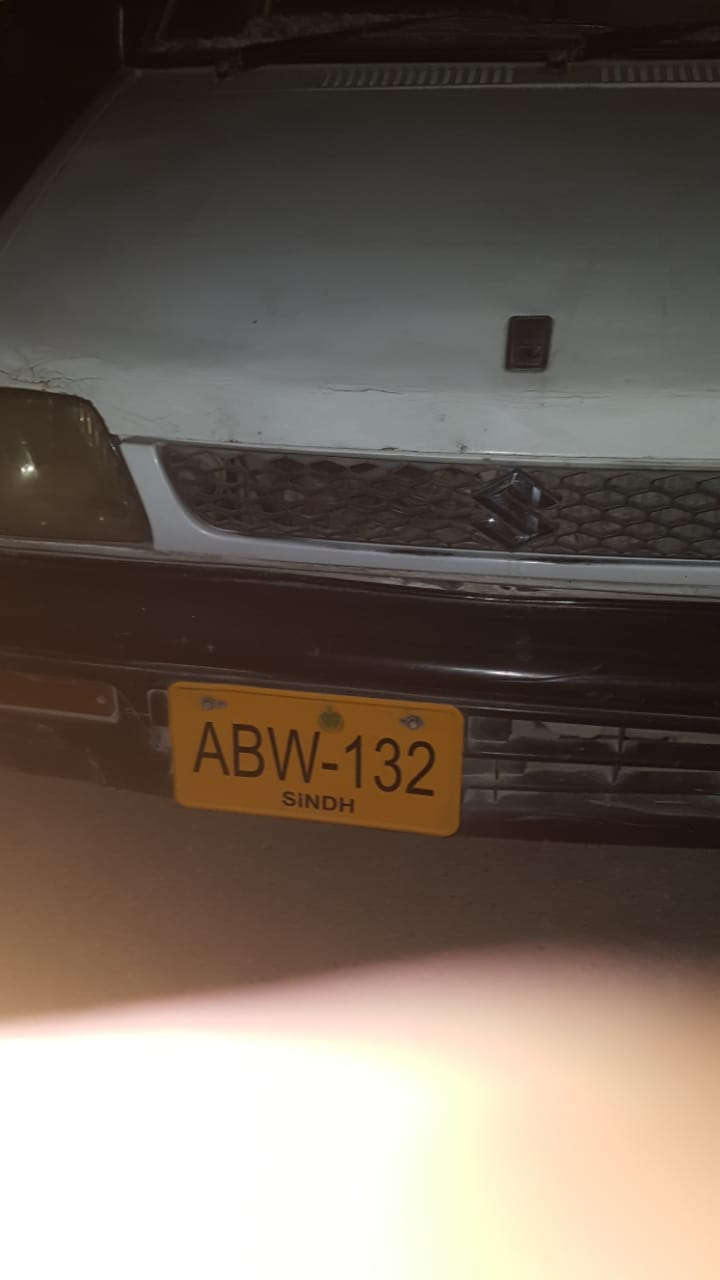license plate: (166, 690, 463, 829)
